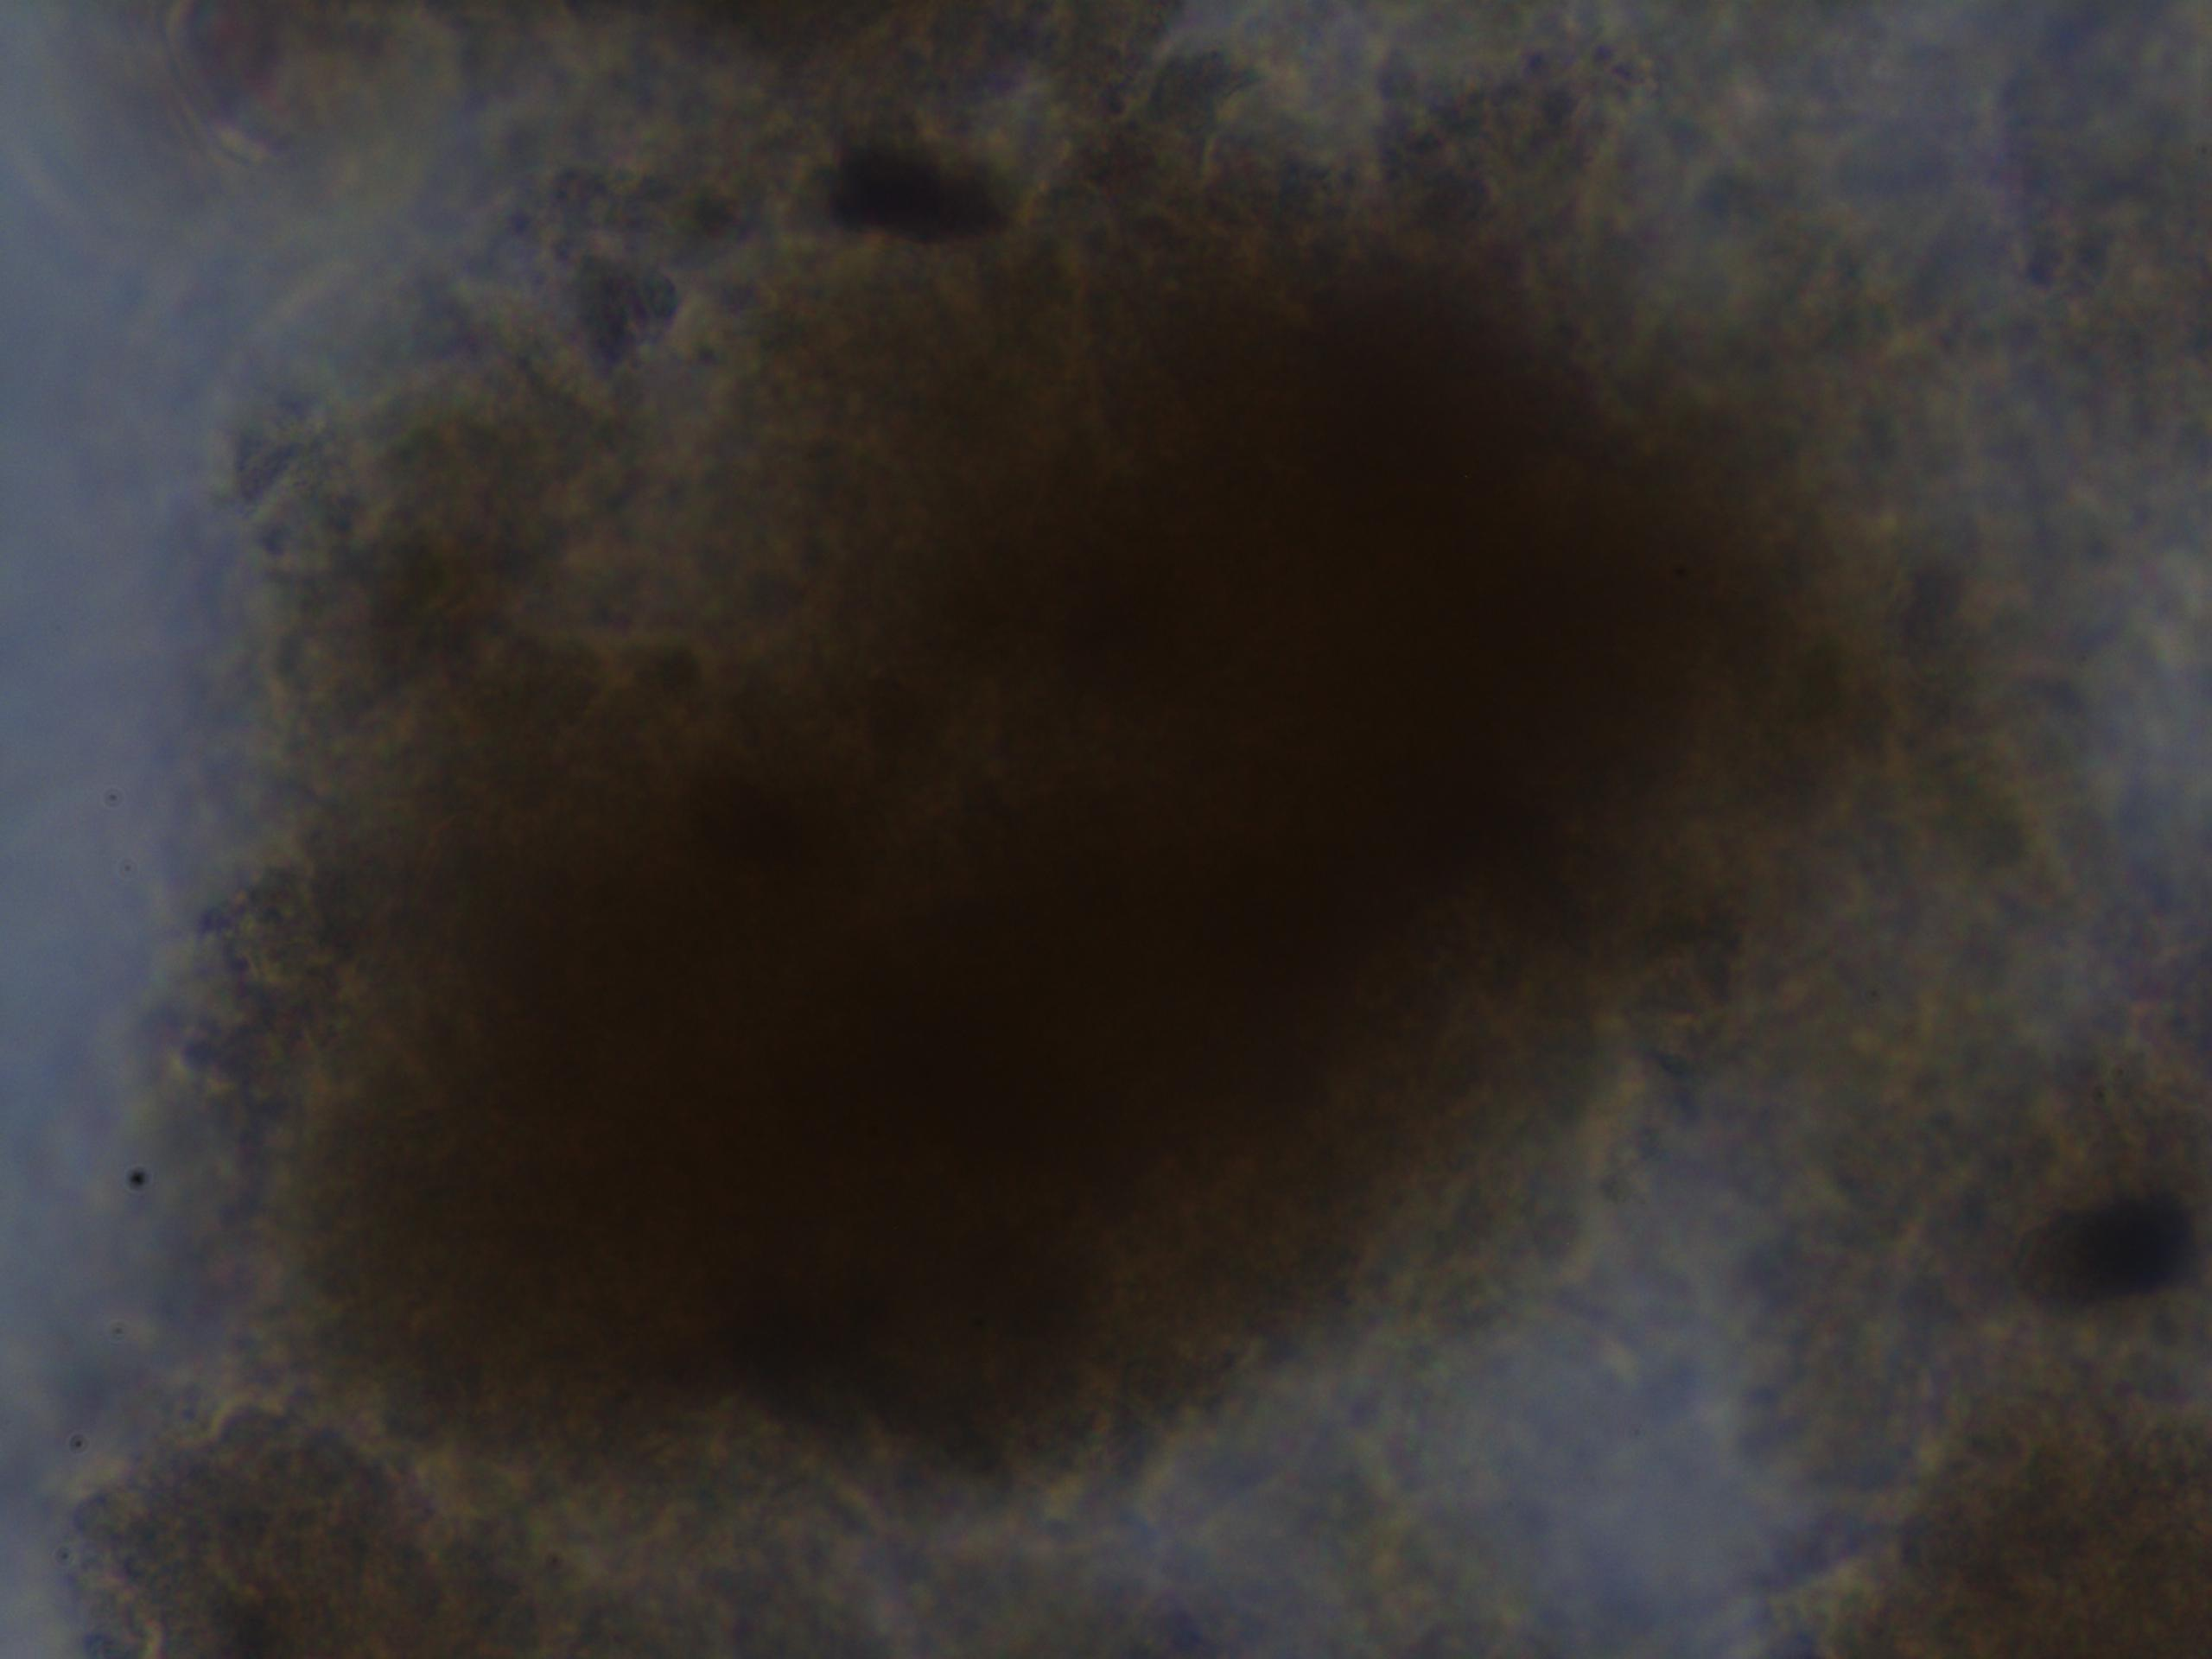spherical_floc: (240, 134, 1883, 1513)
